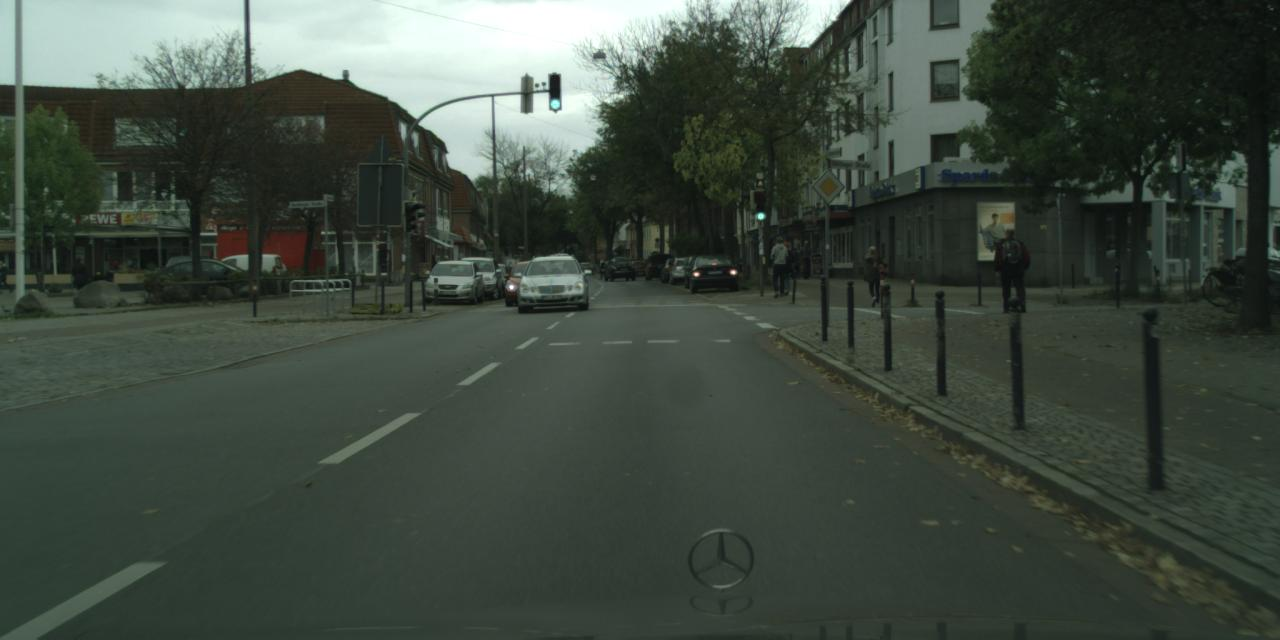ped: (994, 225, 1030, 312), (770, 236, 811, 298), (862, 244, 886, 306), (72, 256, 88, 298), (0, 260, 9, 292), (436, 256, 441, 263), (444, 256, 450, 260)
